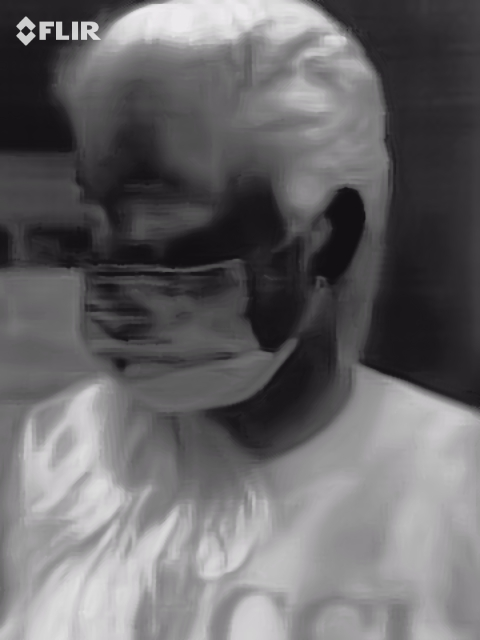head: (54, 1, 394, 416)
